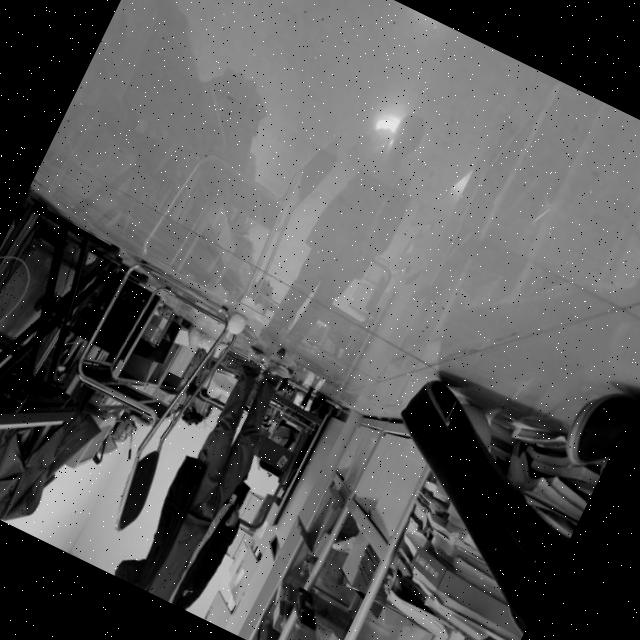ping-pong-ball: (274, 346, 286, 360)
